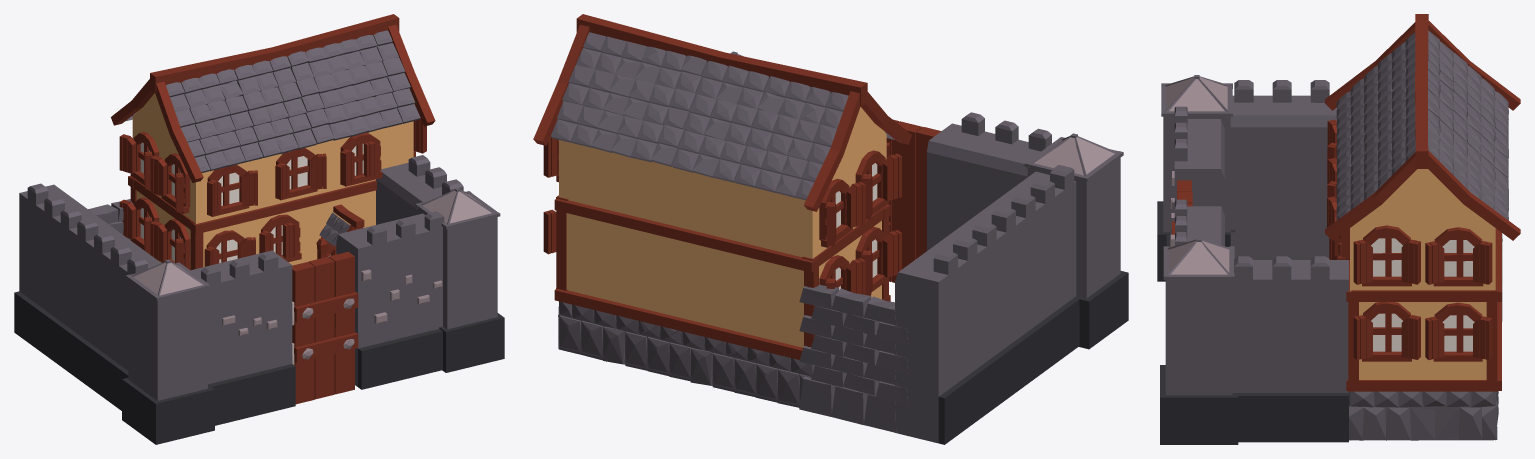
File: Brrack.fbx
The picture shows the model from 3 angles, left to right: view 1: azimuth 30°, elevation 25°; view 2: azimuth 150°, elevation 25°; view 3: azimuth 270°, elevation 25°; orthographic projection. The views are drawn at different scales.
Parts seen in each view (by area): view 1: Barrack; view 2: Barrack; view 3: Barrack.
Part boxes in pixels (left/top/right/bottom): Barrack: left=14, top=14, right=504, bottom=444; Barrack: left=533, top=14, right=1128, bottom=444; Barrack: left=1157, top=14, right=1520, bottom=444.
Bounding box in the file's own units: 499 × 653 × 454.
